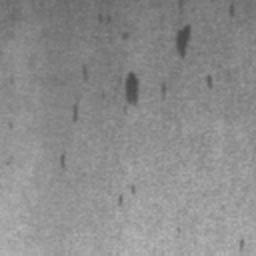Red iron sheet: (73, 0, 235, 122), (118, 185, 136, 205), (5, 122, 13, 166), (239, 239, 245, 251), (60, 154, 65, 168)
